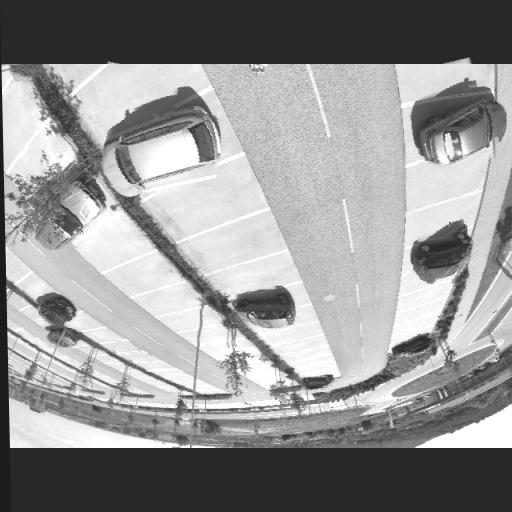busy: (99, 98, 225, 201), (412, 102, 500, 168), (25, 182, 108, 250), (232, 291, 300, 333), (413, 232, 468, 283), (36, 298, 79, 326), (390, 338, 435, 358), (47, 327, 80, 347), (300, 373, 333, 392)
free: (101, 64, 180, 114), (19, 135, 76, 183), (407, 60, 476, 98), (174, 186, 232, 218), (414, 161, 464, 197), (412, 210, 465, 240), (232, 264, 278, 290), (86, 234, 130, 260), (209, 231, 255, 255), (150, 290, 186, 312), (123, 267, 162, 287), (178, 308, 214, 328), (197, 326, 231, 343), (113, 338, 142, 356), (214, 340, 244, 356), (241, 348, 265, 366), (22, 281, 47, 298), (406, 272, 436, 286), (275, 324, 302, 338), (406, 290, 436, 302), (69, 314, 92, 329), (129, 350, 153, 364), (404, 330, 422, 346), (410, 306, 433, 318), (145, 360, 167, 372), (288, 341, 311, 352), (17, 328, 36, 341), (90, 329, 112, 340), (252, 356, 271, 368), (33, 338, 52, 350), (408, 319, 428, 329), (296, 351, 320, 359), (254, 366, 272, 376), (163, 370, 183, 379), (301, 358, 325, 365)
